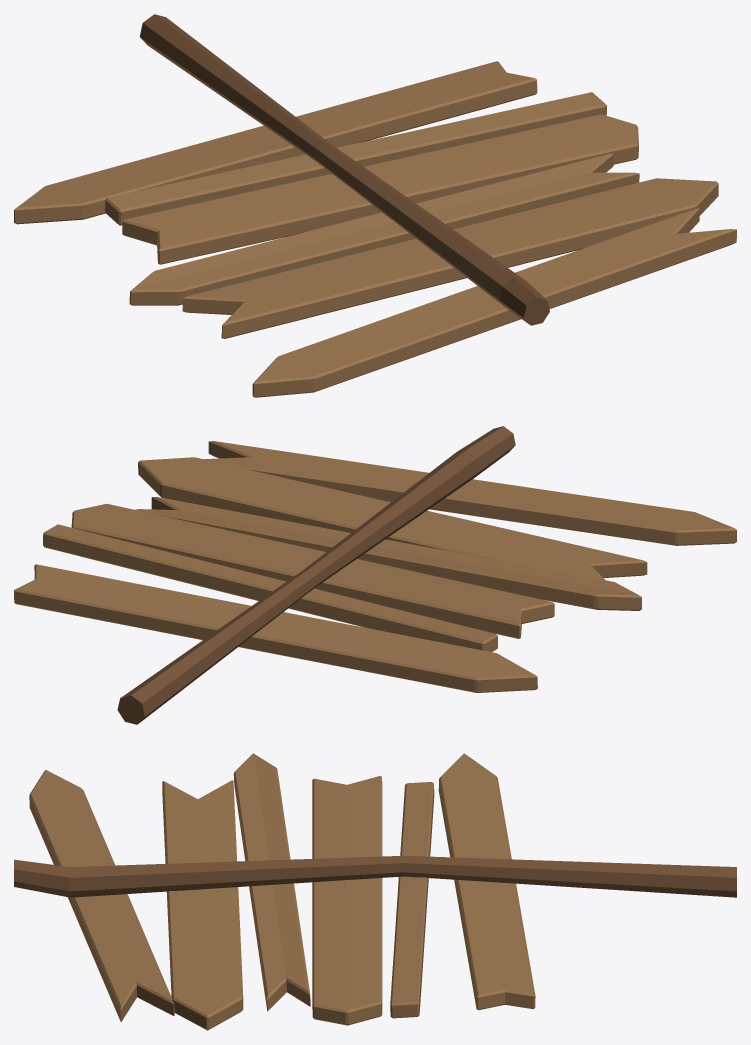
Rendered from Panel_15.fbx.
3 renders of one model, top to bottom at view 1: azimuth 30°, elevation 25°; view 2: azimuth 150°, elevation 25°; view 3: azimuth 270°, elevation 25°, orthographic. The views are drawn at different scales.
Parts seen in each view (by area): view 1: Poteau 1*6 fleches LOW.002; view 2: Poteau 1*6 fleches LOW.002; view 3: Poteau 1*6 fleches LOW.002.
Part boxes in pixels (box(x1,y1,x2,y2)): Poteau 1*6 fleches LOW.002: box(14, 14, 736, 397); Poteau 1*6 fleches LOW.002: box(14, 426, 736, 724); Poteau 1*6 fleches LOW.002: box(14, 753, 736, 1030).
Bounding box in the file's own units: 134 × 12.2 × 160.
